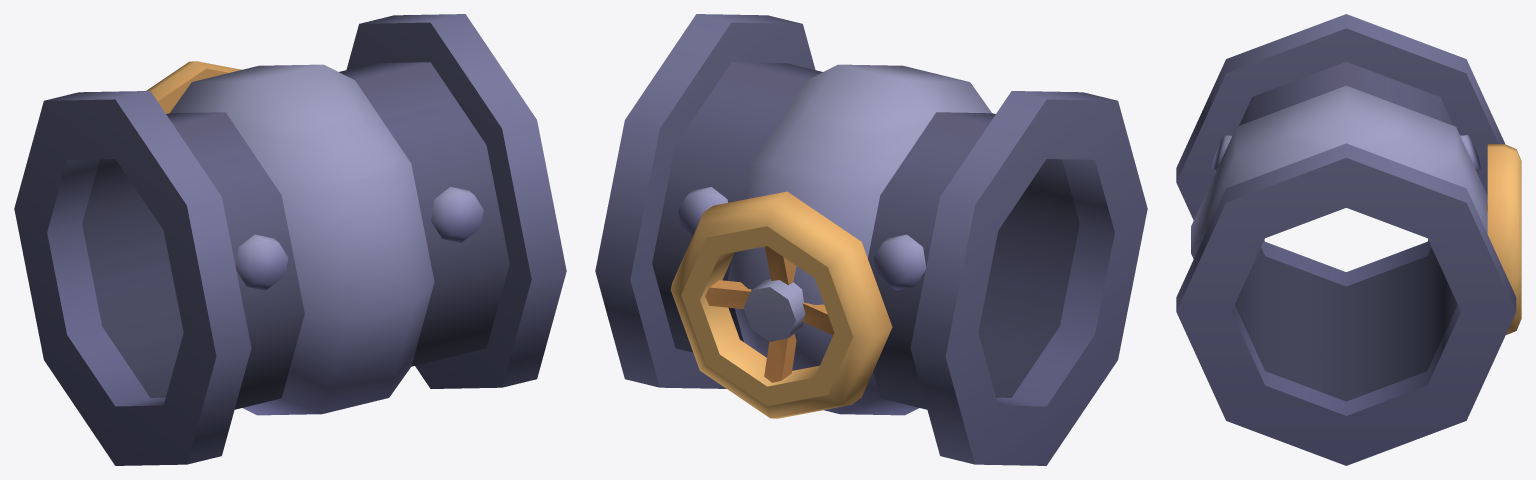
File: pipe-large-valve.glb
The picture shows the model from 3 angles, left to right: view 1: azimuth 30°, elevation 25°; view 2: azimuth 150°, elevation 25°; view 3: azimuth 270°, elevation 25°; orthographic projection. The views are drawn at different scales.
Parts seen in each view (by area): view 1: pipe-large-valve; view 2: pipe-large-valve; view 3: pipe-large-valve.
Part boxes in pixels (x1,y1,x2,y2): pipe-large-valve: (14, 14, 566, 465); pipe-large-valve: (595, 14, 1147, 465); pipe-large-valve: (1176, 14, 1521, 465).
Bounding box in the file's own units: 1 × 1 × 1.02.
Materials: 1 (1 with a texture image).
